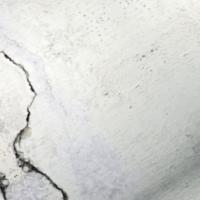crack: (0, 43, 80, 199)
